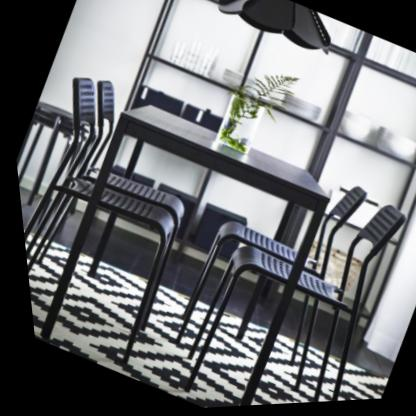Table: (8, 85, 352, 416)
